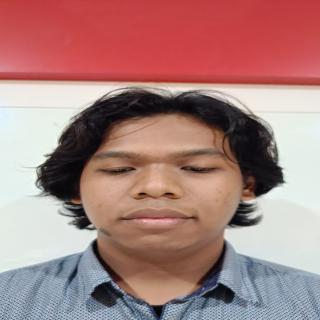Sedih: (84, 112, 248, 259)
